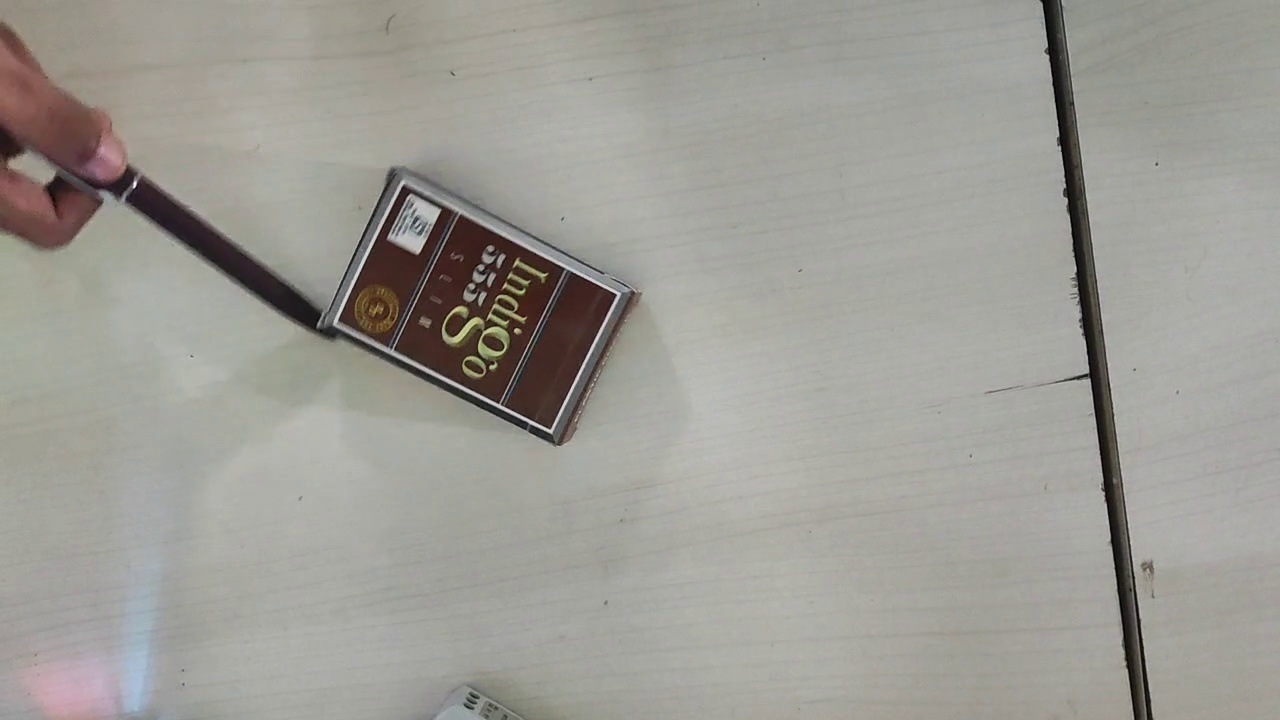BEX: (332, 183, 617, 430)
